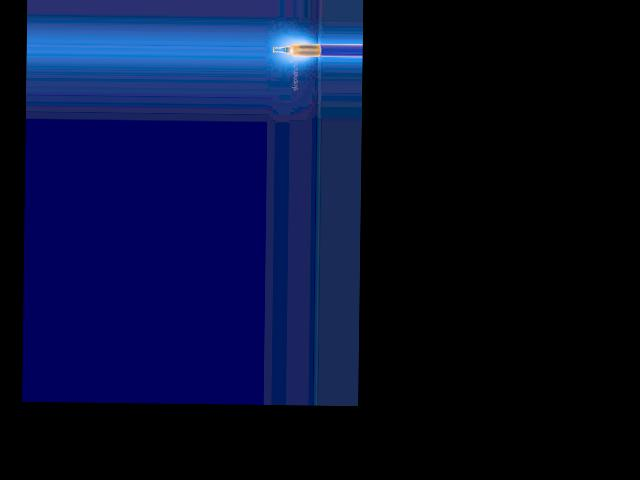beer: (273, 42, 320, 56)
